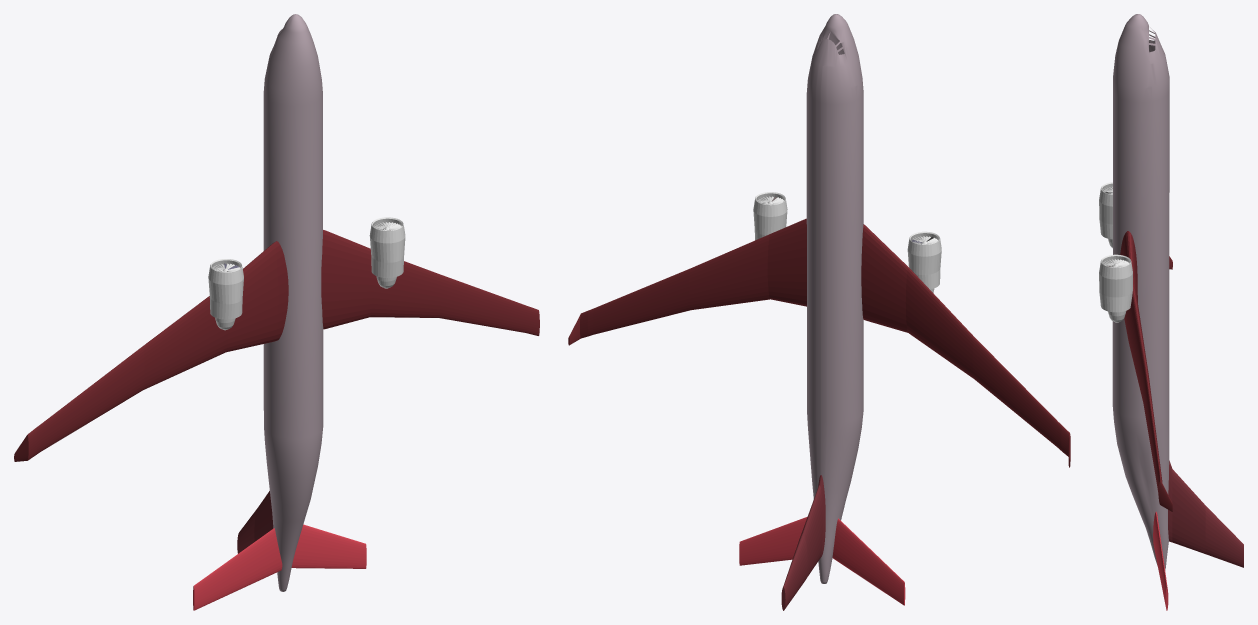
Rendered from perpendicular_airplane_red.glb.
3 renders of one model, left to right at view 1: azimuth 30°, elevation 25°; view 2: azimuth 150°, elevation 25°; view 3: azimuth 270°, elevation 25°, orthographic. The views are drawn at different scales.
Visible parts, largest first — view 1: Circle.001, Cylinder, Cylinder.002, Cylinder.009, Cylinder.006, Cylinder.001, Cylinder.003; view 2: Circle.001, Cylinder, Cylinder.002, Cylinder.001, Cylinder.009, Cylinder.006; view 3: Circle.001, Cylinder.001, Cylinder, Cylinder.009, Cylinder.003, Cylinder.002.
Boxes of the visible parts, x1,y1,x2,y2 form: Circle.001: (263,14,323,591); Cylinder: (14,230,539,461); Cylinder.002: (193,524,366,610); Cylinder.009: (369,217,405,277); Cylinder.006: (208,259,241,319); Cylinder.001: (237,491,273,553); Cylinder.003: (210,259,243,319); Circle.001: (806,14,863,583); Cylinder: (568,218,1070,467); Cylinder.002: (739,516,905,605); Cylinder.001: (781,475,825,610); Cylinder.009: (753,192,787,240); Cylinder.006: (909,231,941,289); Circle.001: (1112,14,1169,569); Cylinder.001: (1168,460,1243,567); Cylinder: (1120,231,1172,511); Cylinder.009: (1099,254,1132,312); Cylinder.003: (1099,182,1112,239); Cylinder.002: (1153,511,1168,610).
Bounding box in the file's own units: 59.81 × 63.83 × 15.03.
